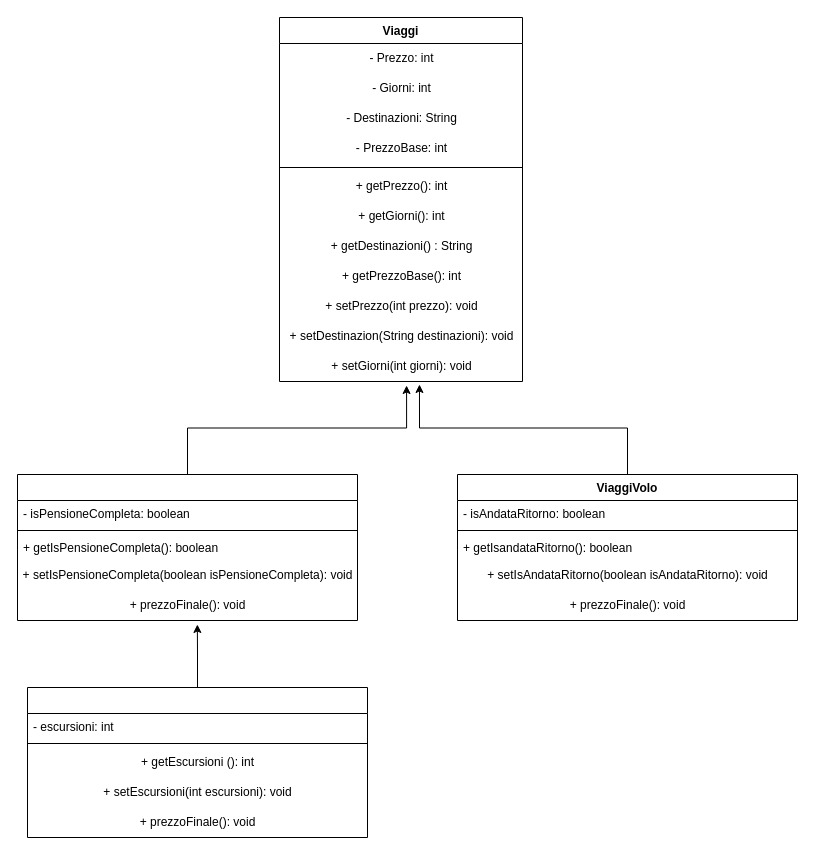
This 815x855 diagram has some shape labels left out. Each missing label, with the box of its shape:
ViaggiEscursioni: (26, 686, 368, 838)
ViaggiPasti: (16, 474, 358, 620)
